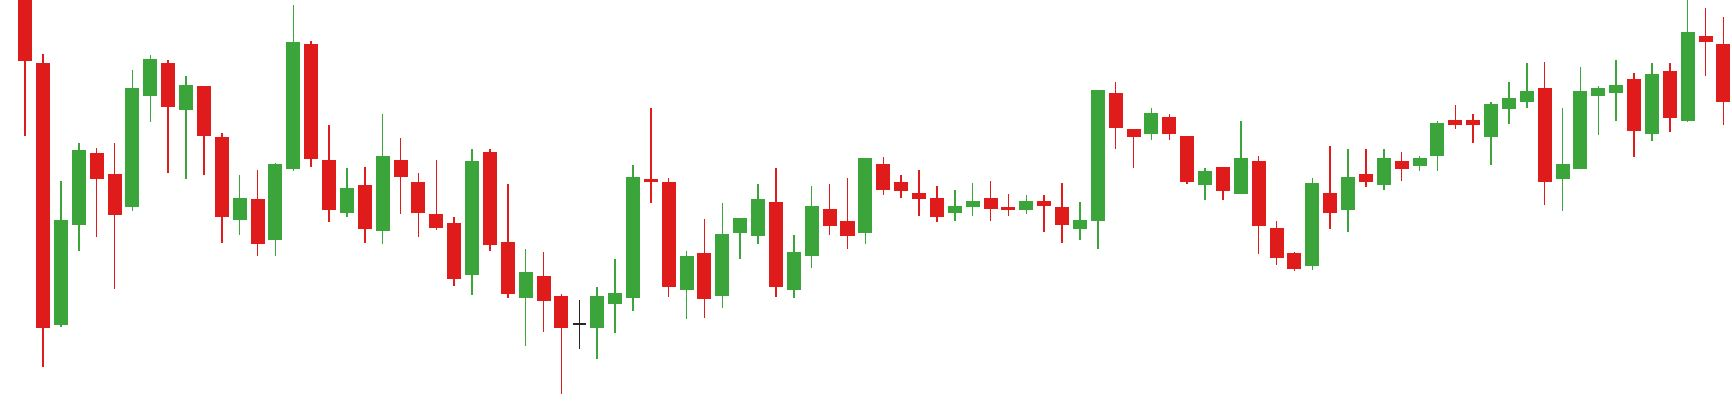buy: (1087, 144, 1321, 275)
sell: (144, 6, 321, 200)
